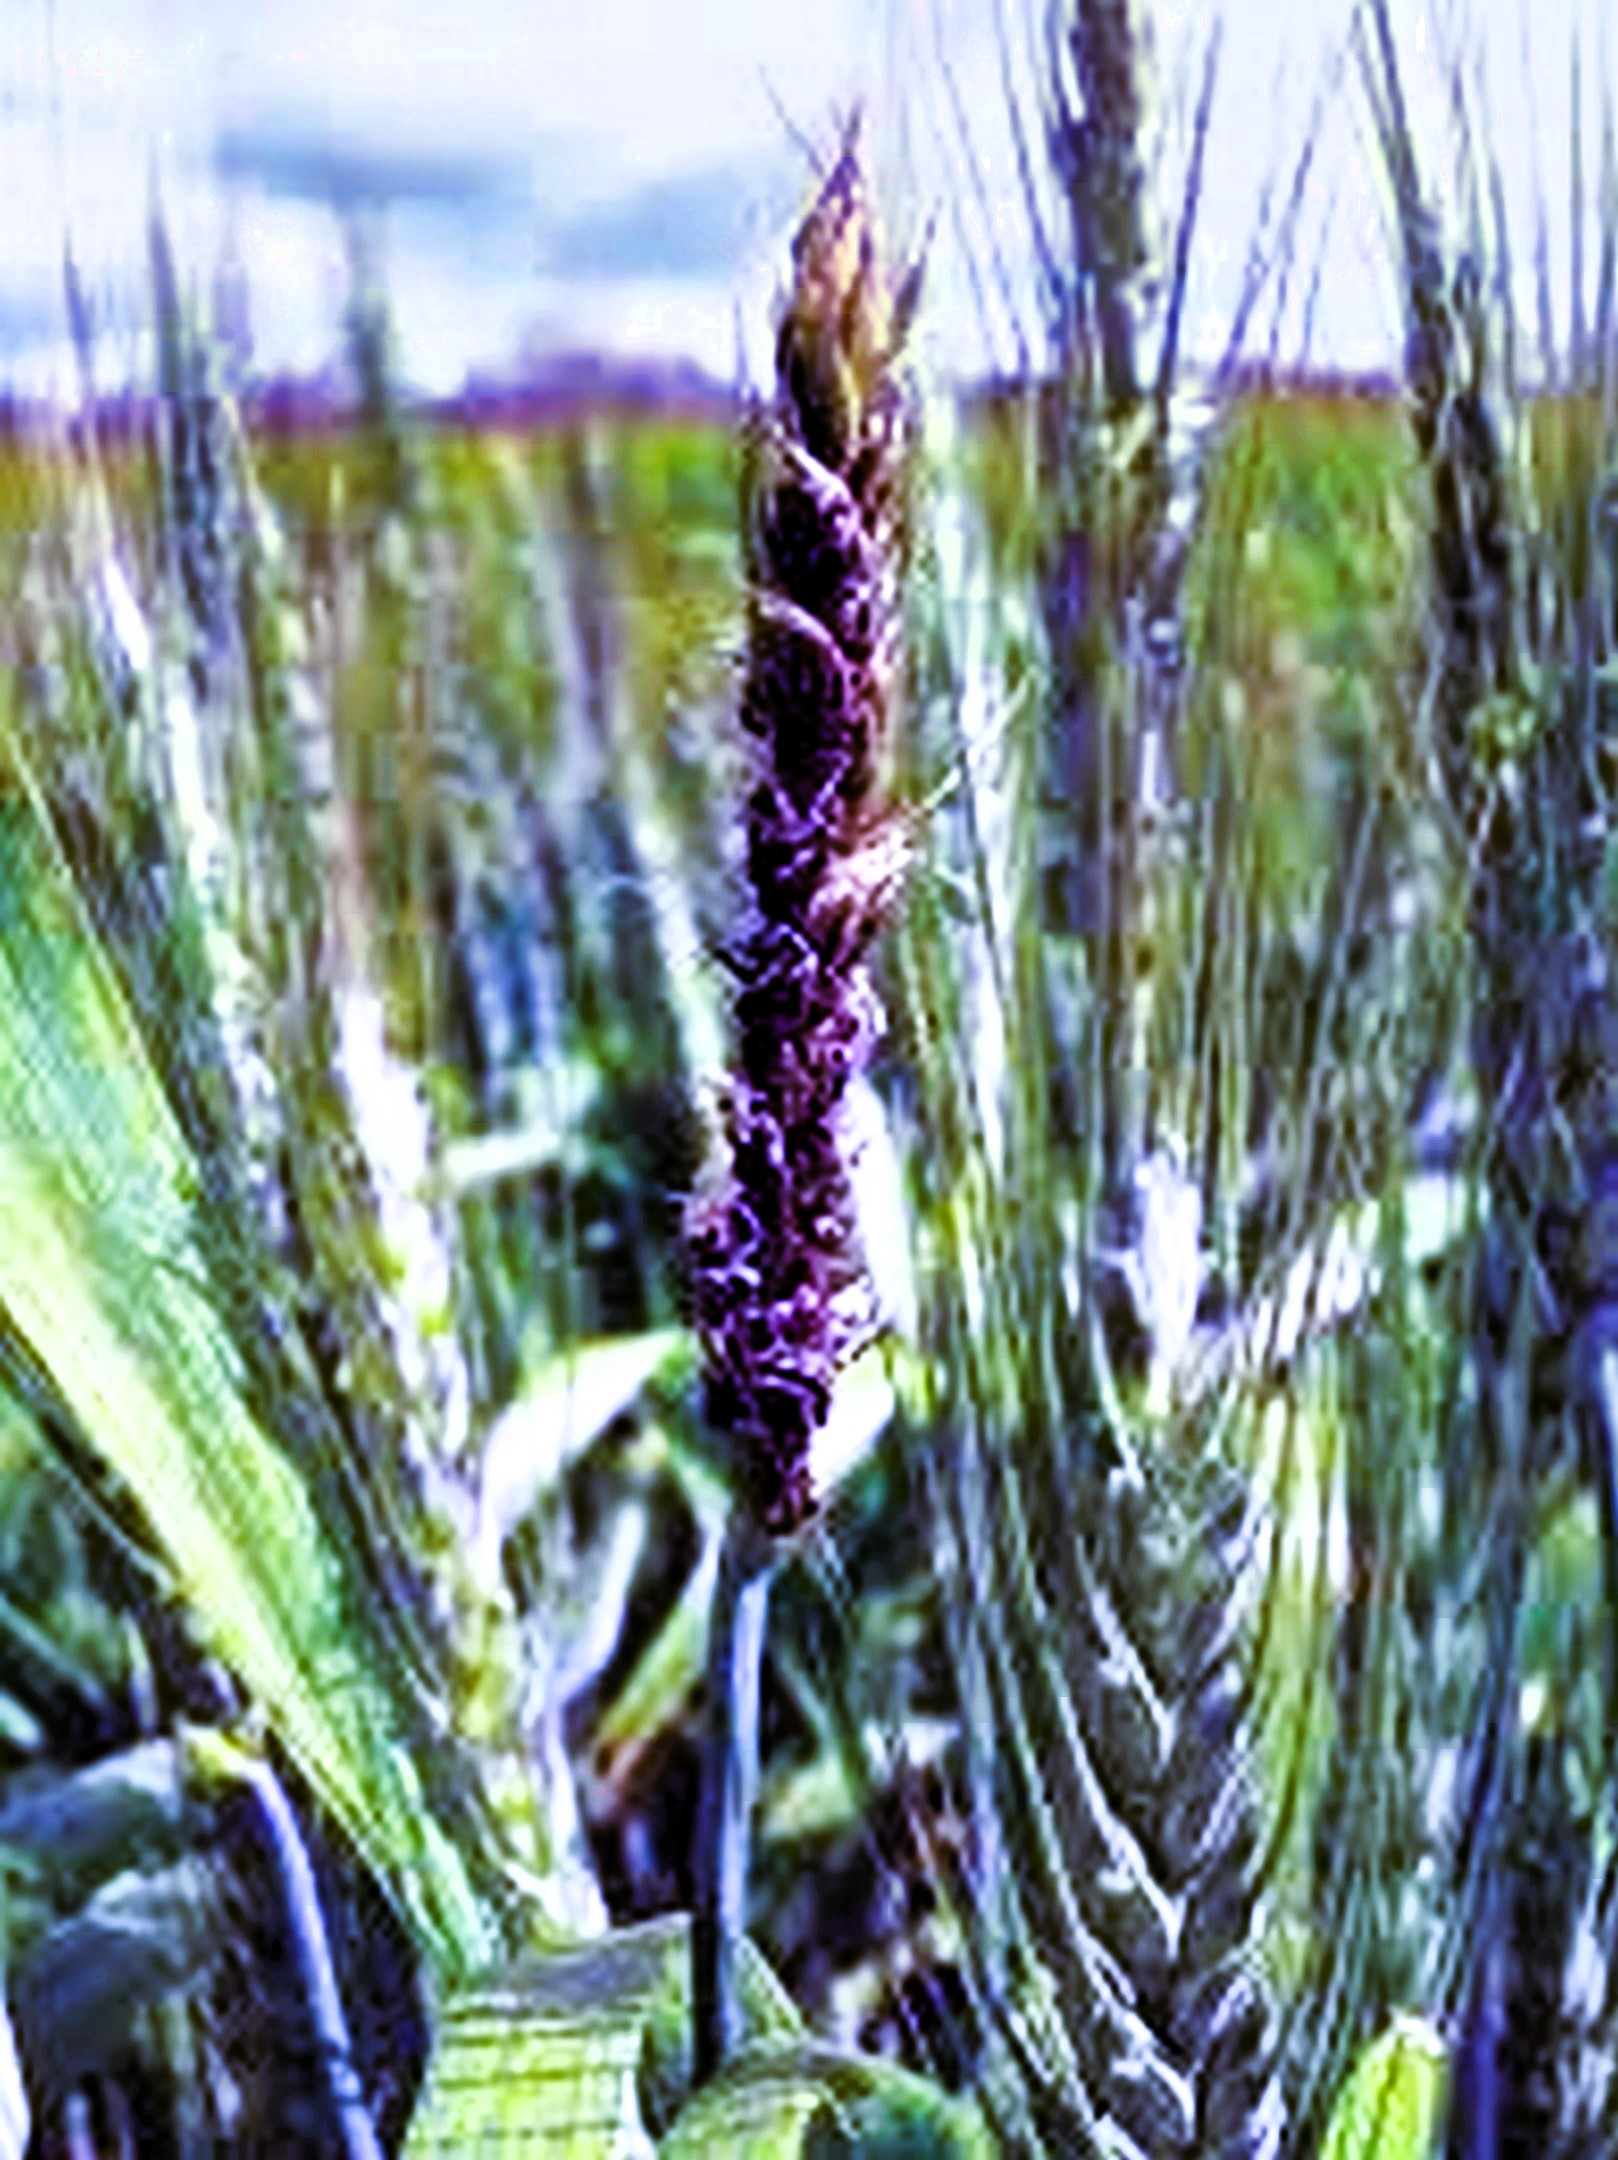Wheat Loose Smut: (661, 178, 945, 1494)
